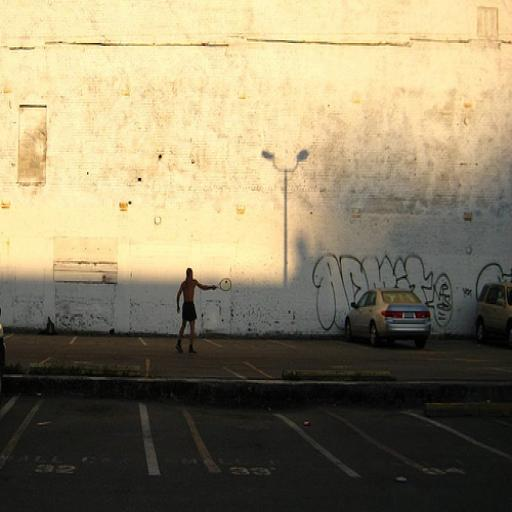person: (174, 266, 219, 359)
vehicle: (346, 286, 431, 350), (472, 280, 512, 347)
